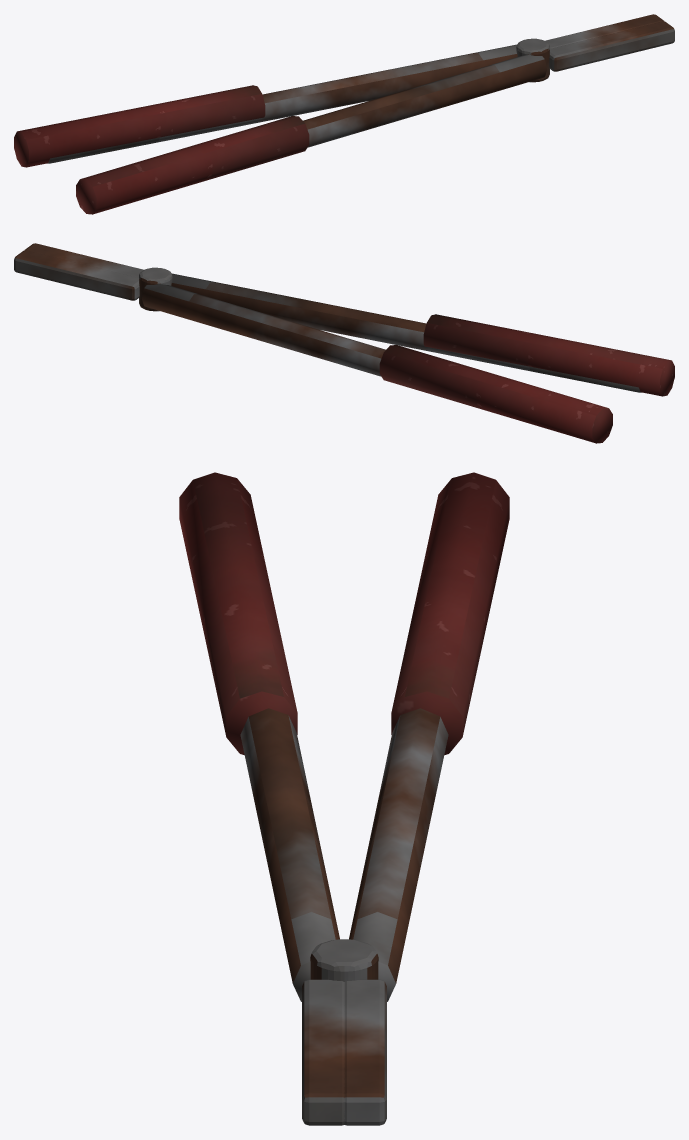
File: P08_bolt_cutters.glb
3 renders of one model, top to bottom at view 1: azimuth 30°, elevation 25°; view 2: azimuth 150°, elevation 25°; view 3: azimuth 270°, elevation 25°, orthographic. The views are drawn at different scales.
Visible parts, largest first — view 1: P08_bolt_cutters; view 2: P08_bolt_cutters; view 3: P08_bolt_cutters.
Boxes of the visible parts, x1,y1,x2,y2 form: P08_bolt_cutters: [14, 14, 674, 214]; P08_bolt_cutters: [14, 243, 674, 443]; P08_bolt_cutters: [179, 472, 509, 1125].
Size of the model in its own units: 0.7 by 0.0407 by 0.1633.
2 materials, 2 textured.
